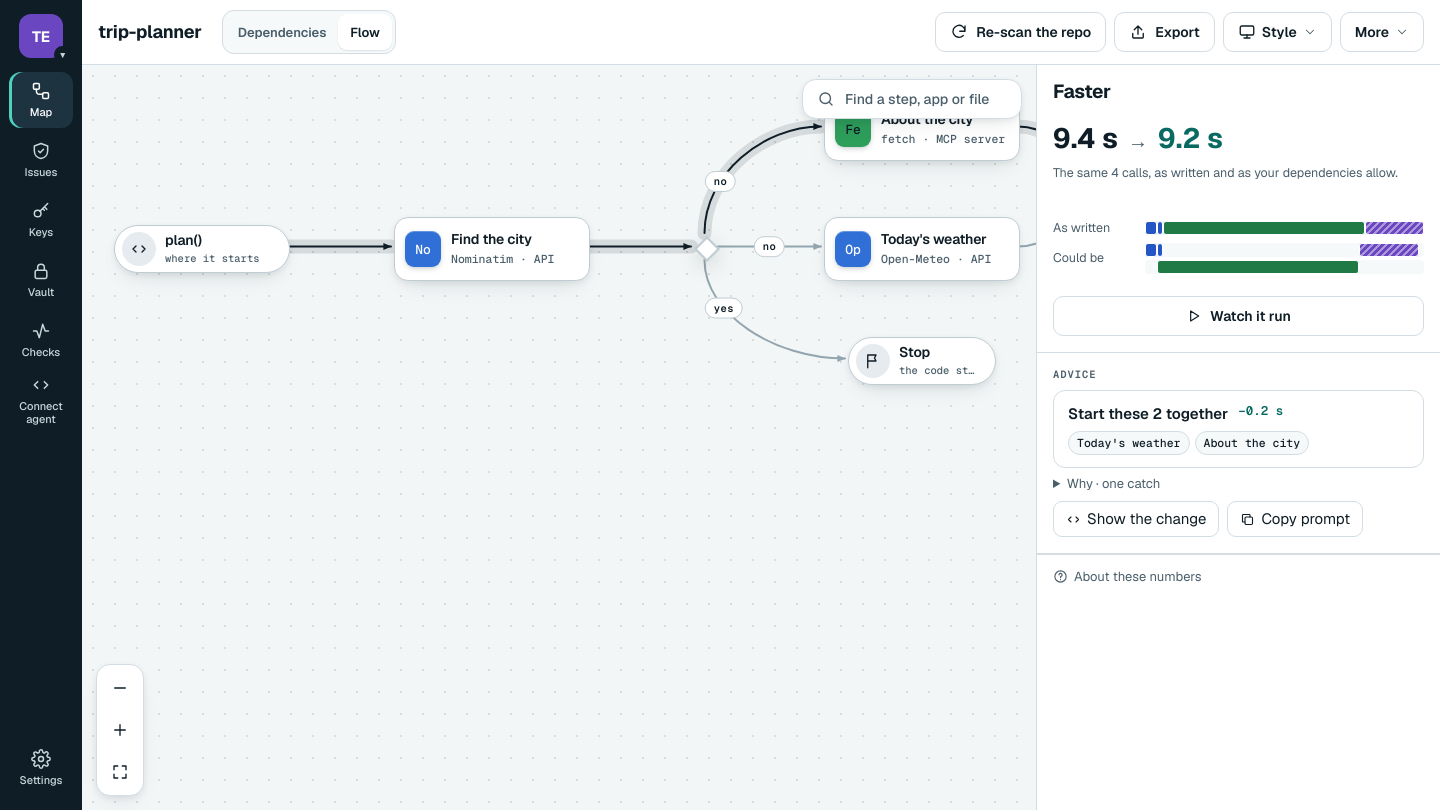
Scenario: a flow read from Dart says it was read by patterns and names Dart's import
The width and height of the screenshot is (1440, 810).
Click the button "Show the change" at (1136, 519), box [1053,501,1219,537]
(page scrolled)
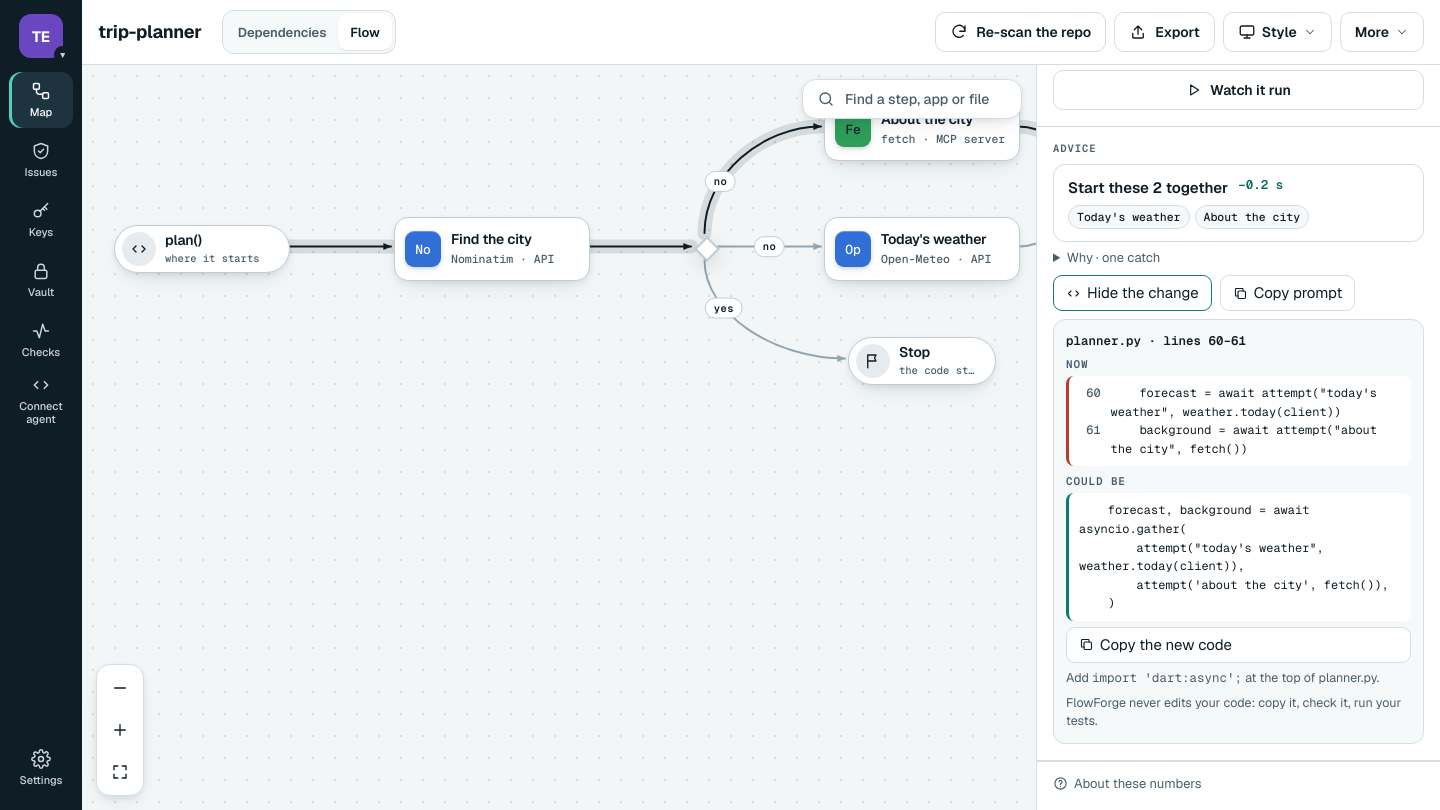
Expected: the text "import 'dart:async';" is shown, [1092,669,1242,686]
